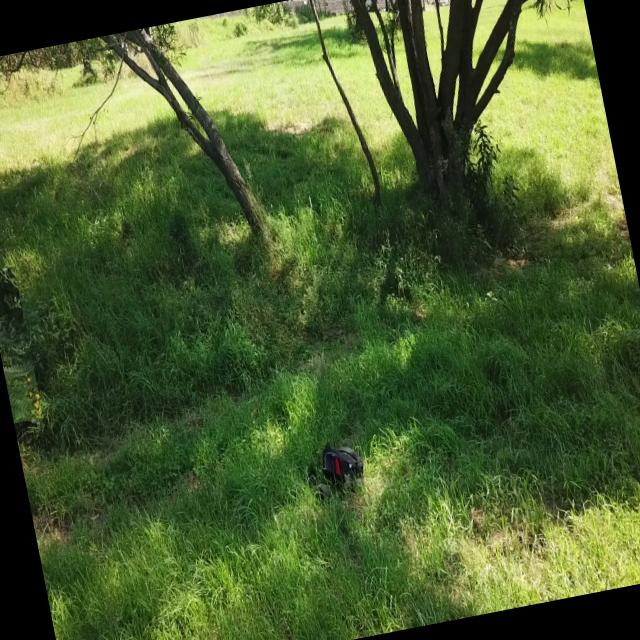Mysore-Thorn-Weed: (0, 266, 43, 423)
